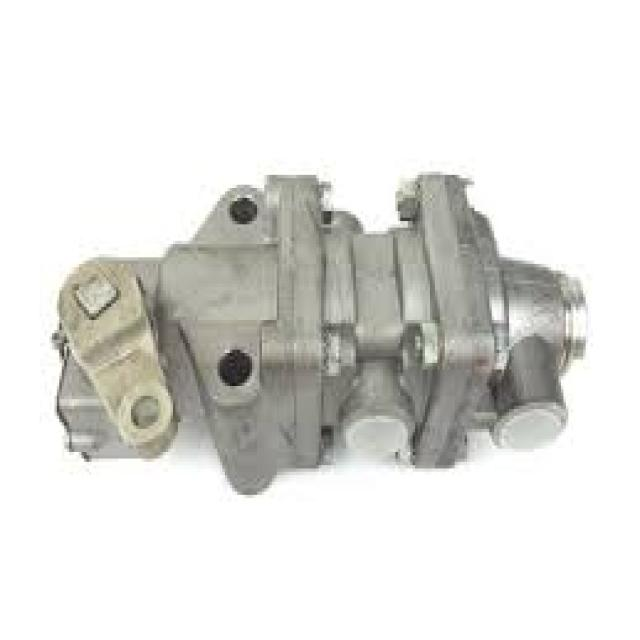video_frame: (52, 167, 589, 499)
